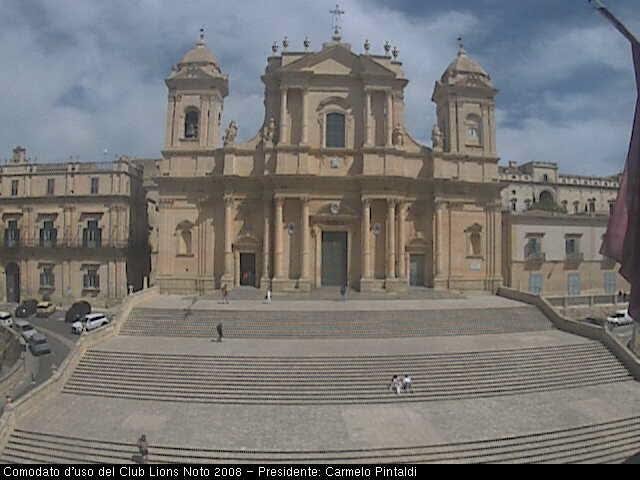person: (137, 433, 149, 464), (340, 281, 350, 305), (391, 374, 402, 394), (263, 285, 273, 305), (403, 374, 413, 394), (215, 321, 224, 343), (221, 283, 230, 304), (242, 272, 249, 287)
